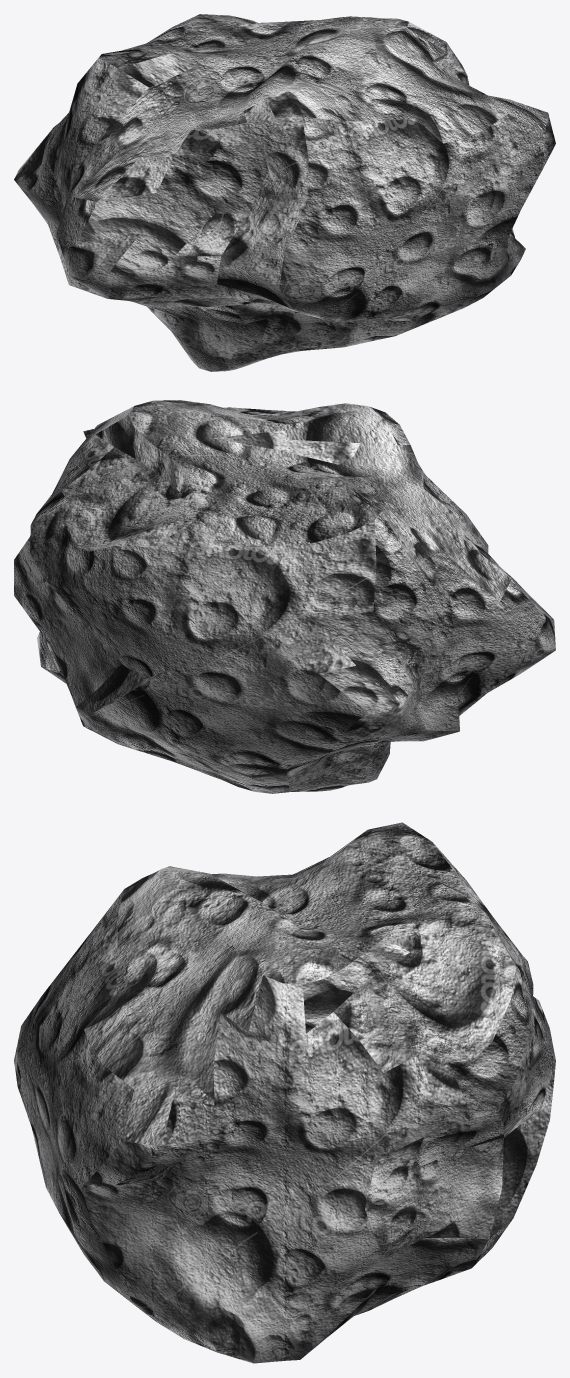
Rendered from asteroide_1.FBX.
3 renders of one model, top to bottom at view 1: azimuth 30°, elevation 25°; view 2: azimuth 150°, elevation 25°; view 3: azimuth 270°, elevation 25°, orthographic. The views are drawn at different scales.
Visible parts, largest first — view 1: asteroide_1; view 2: asteroide_1; view 3: asteroide_1.
Boxes of the visible parts, <box> form: asteroide_1: <box>14,14,555,371</box>; asteroide_1: <box>14,400,555,793</box>; asteroide_1: <box>14,822,555,1363</box>.
Bounding box in the file's own units: 331 × 212 × 259.
Materials: 1 (1 with a texture image).
